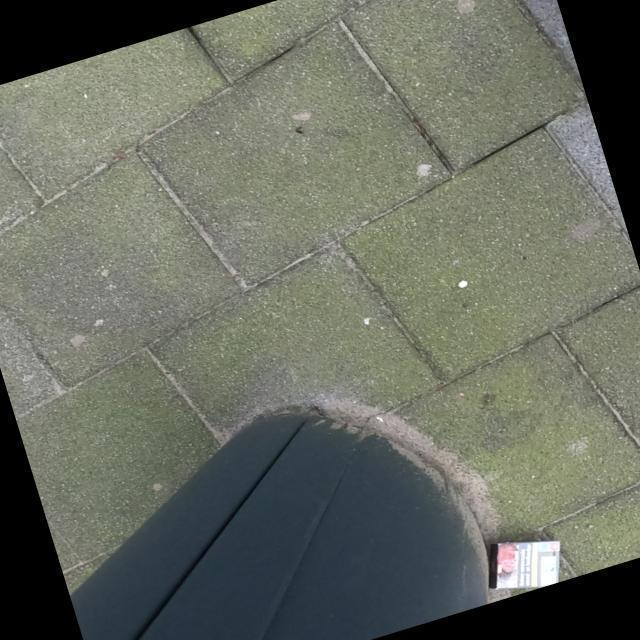Paper: (488, 536, 563, 592)
